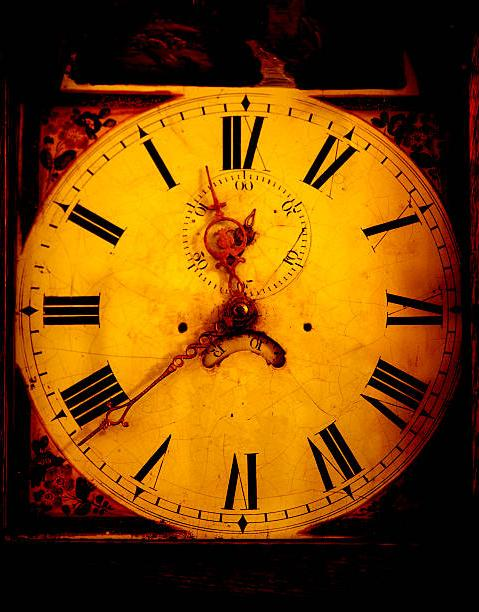clock: (12, 94, 457, 542)
